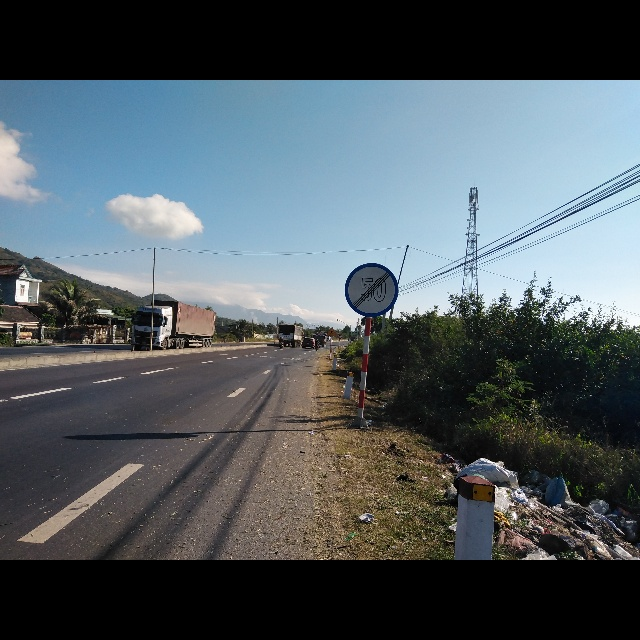Hết hạn chế tốc độ tối đa 50km/h: (342, 259, 399, 319)
